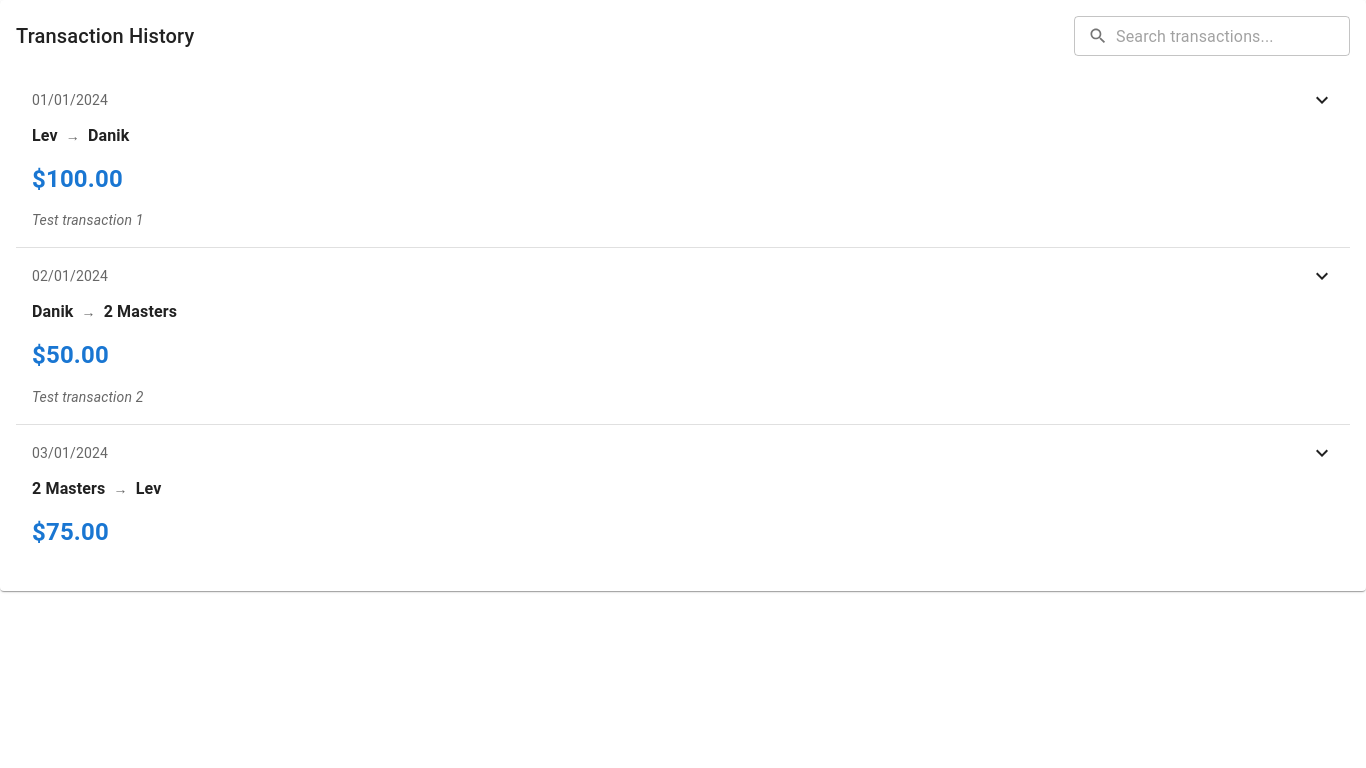
Test: TransactionHistory › Search Functionality › should clear search when clear button is clicked
The width and height of the screenshot is (1366, 768).
Type "lev" into the field with placeholder "Search transactions..." at coordinates (1233, 36), box [1116,16,1350,56]
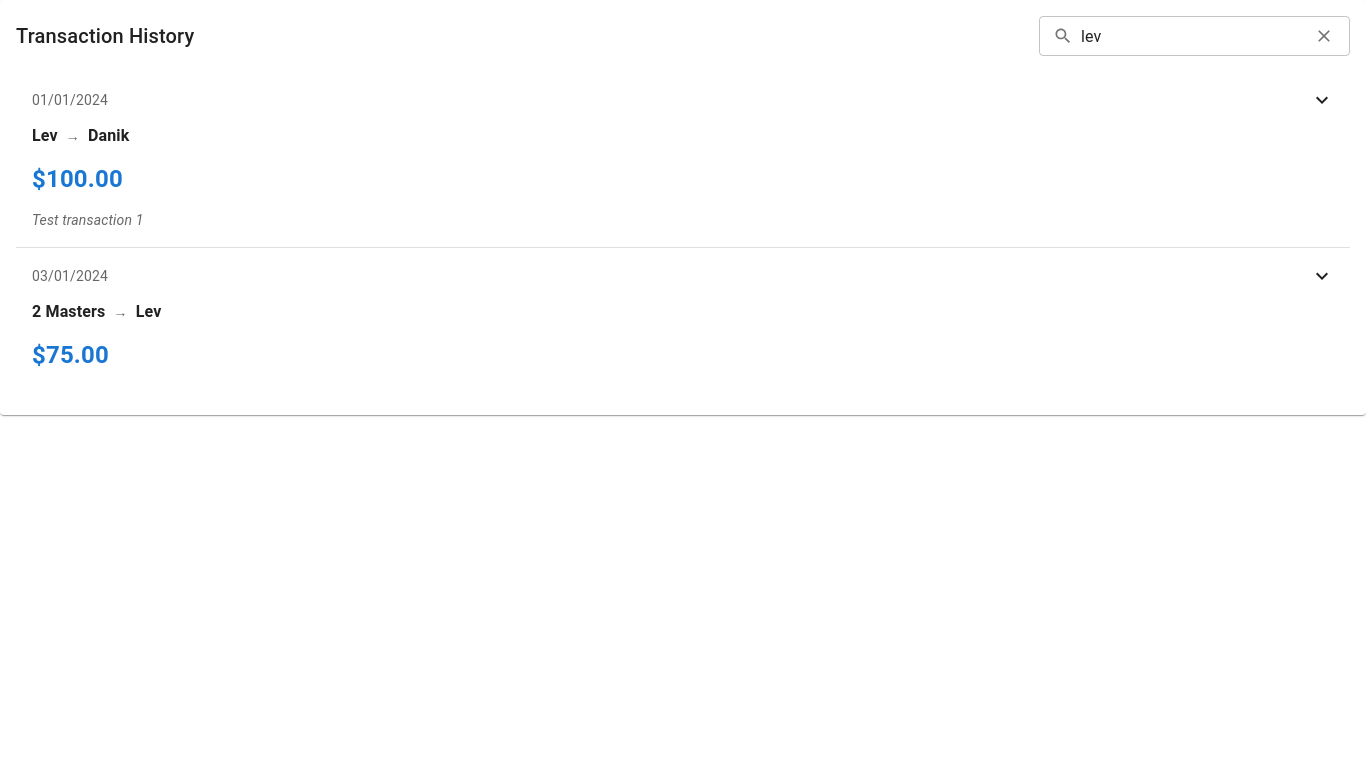
Clear button should appear
Click the button at coordinates (1324, 36), box [1309,21,1339,51]
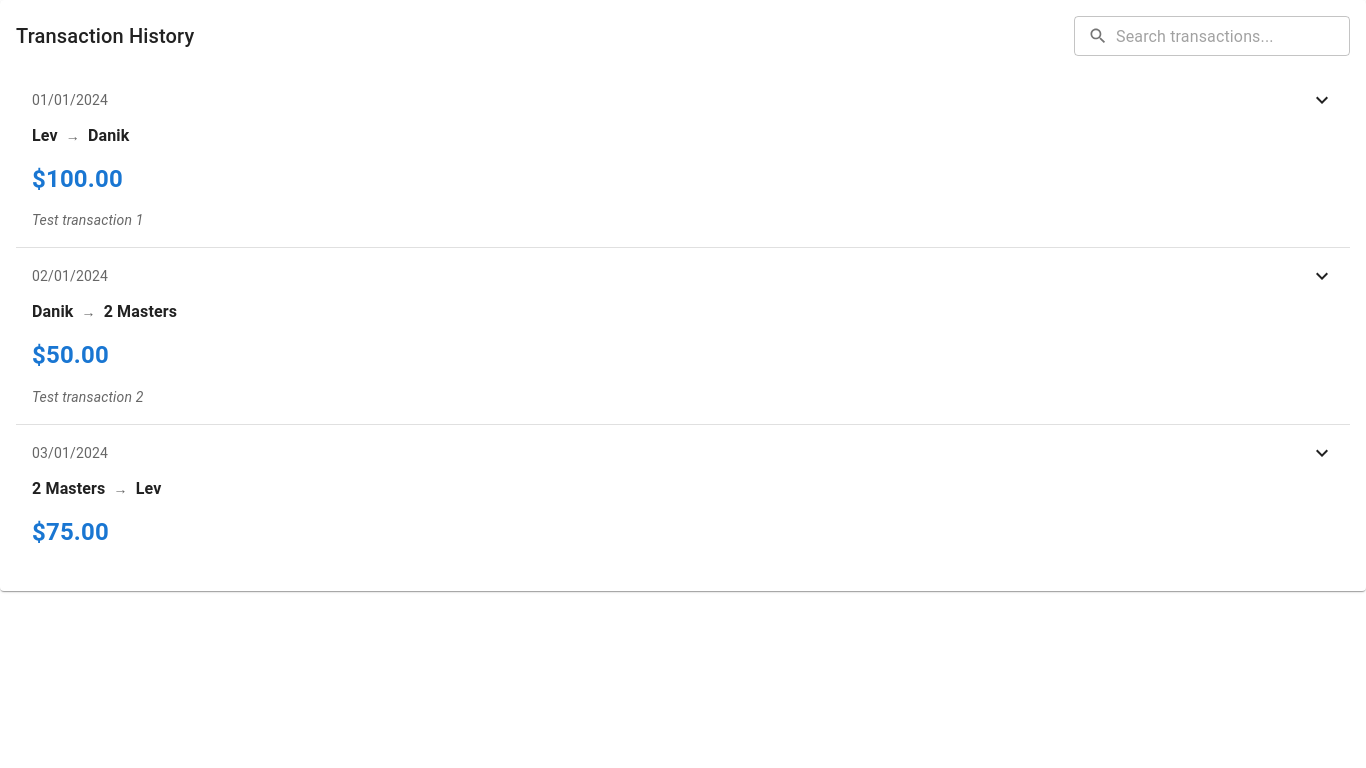
Expected: the heading "$100.00" is shown, [32,165,123,193]
Result: the heading "$50.00" is shown at [32,341,109,369]
